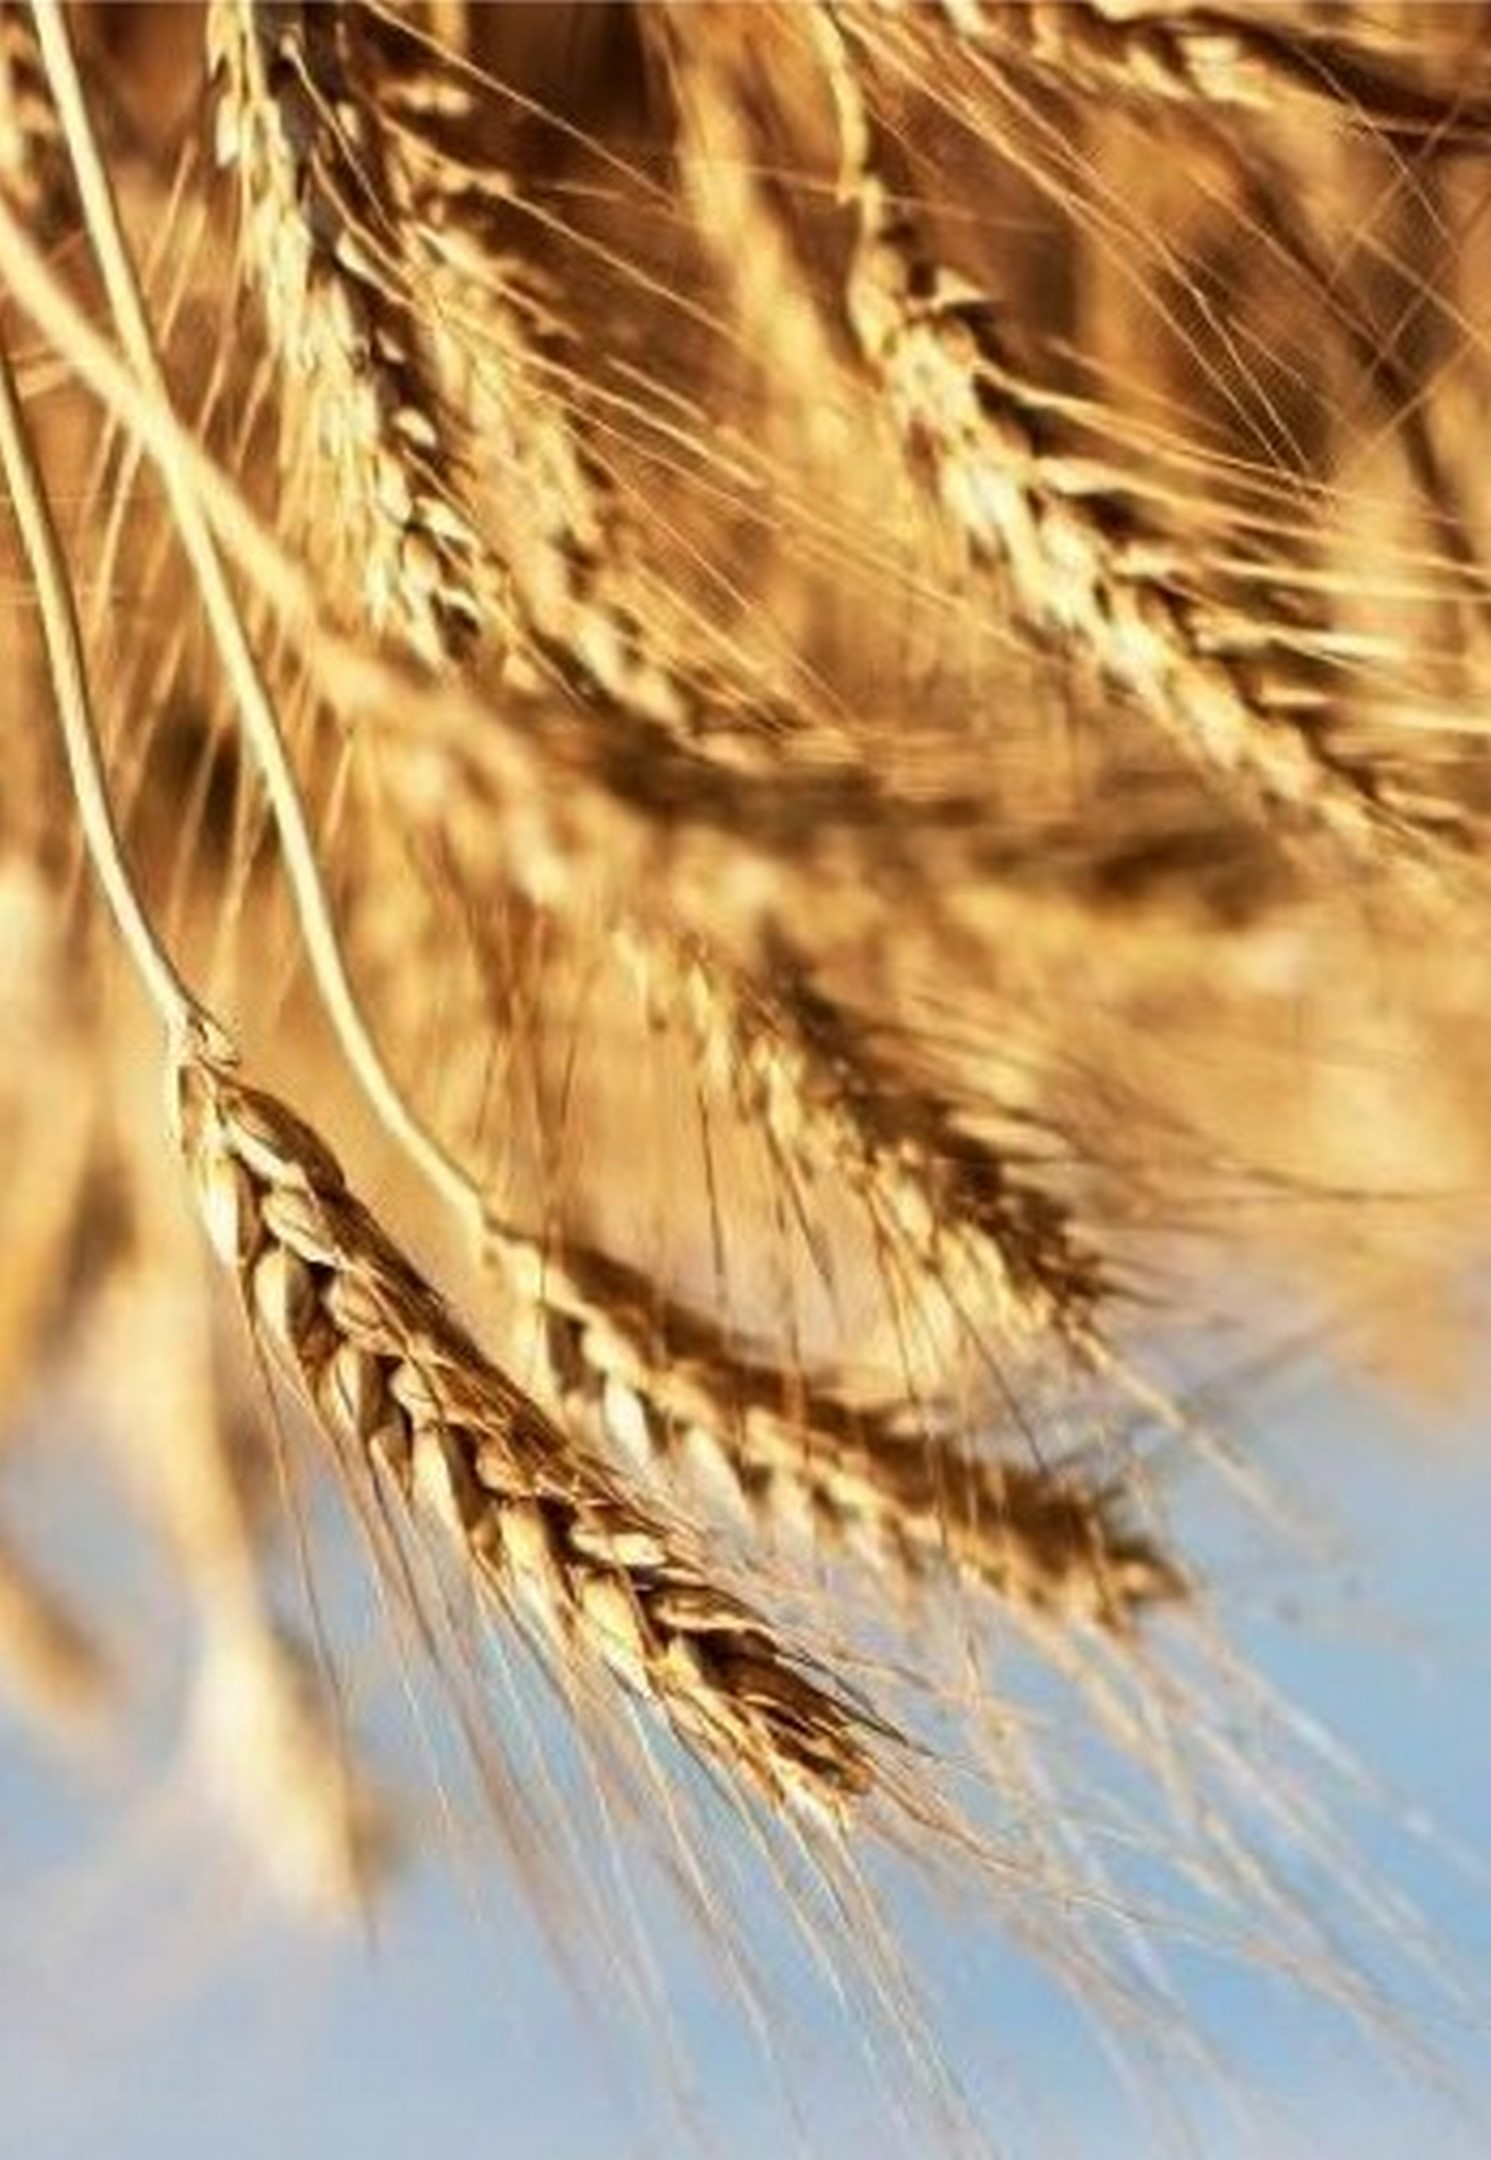Healthy Wheat: (146, 1047, 895, 1868)
